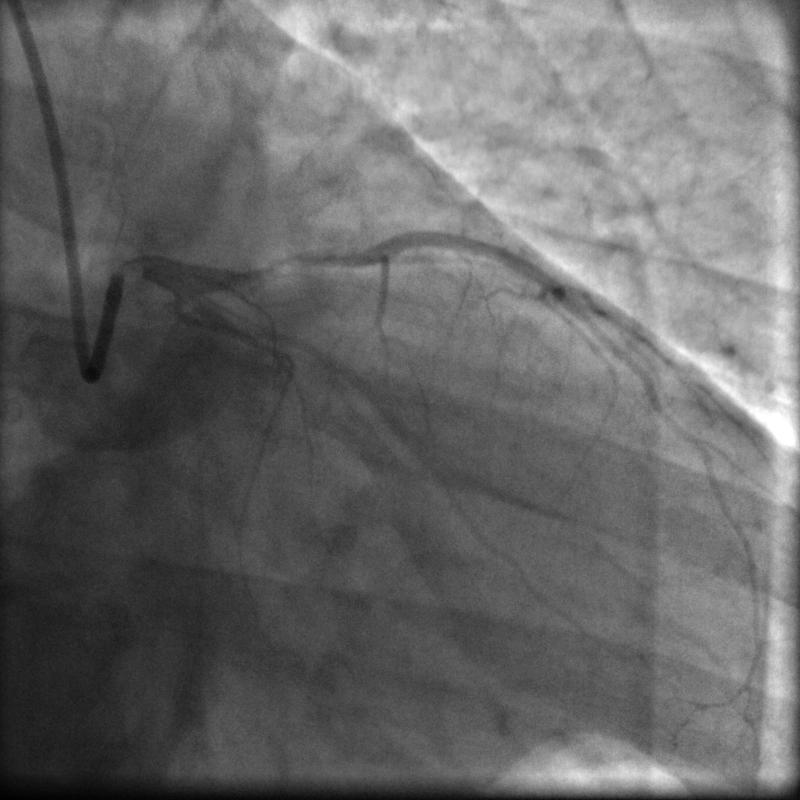Stenosis: (238, 246, 322, 275)
